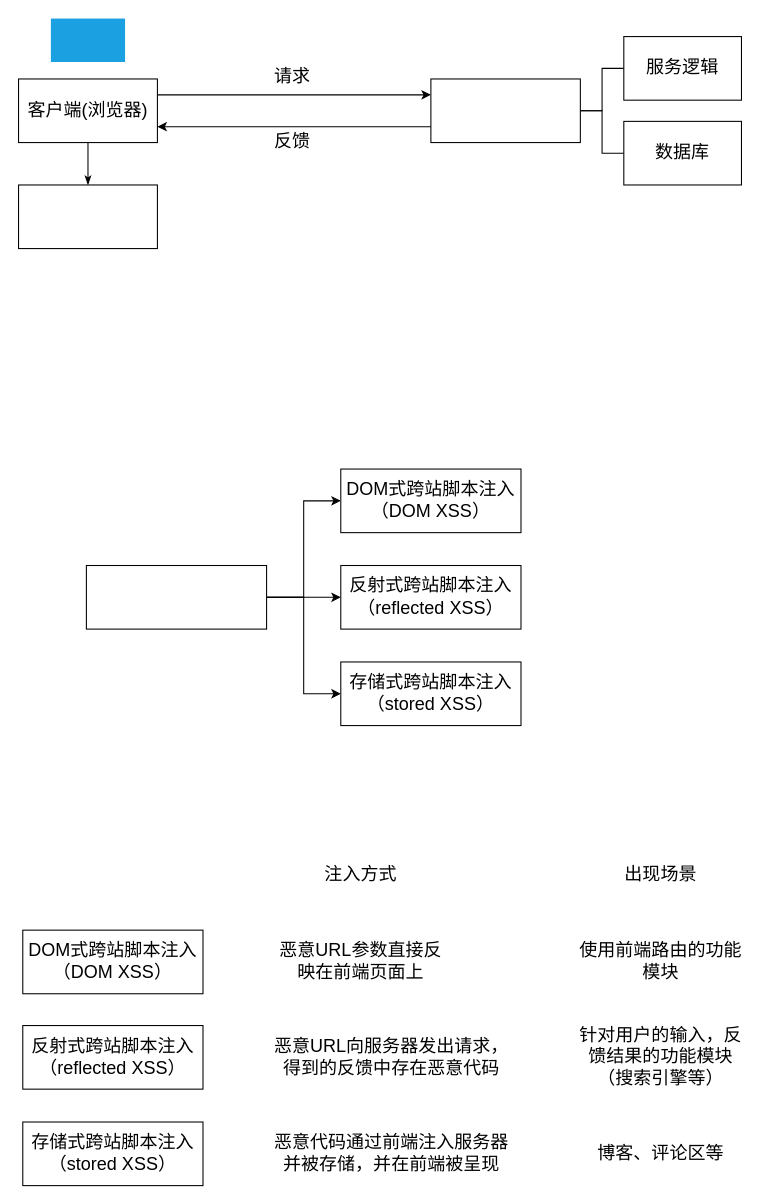
Image size: 770x1204. Some labels were removed from this diagram. The centre of each missing label's shape, as x and y in pixels:
"XSS" belongs at (87,39).
"前端代码" belongs at (87,216).
"服务端(服务器)" belongs at (505,110).
"跨站脚本 注入 （XSS）" belongs at (176,596).
